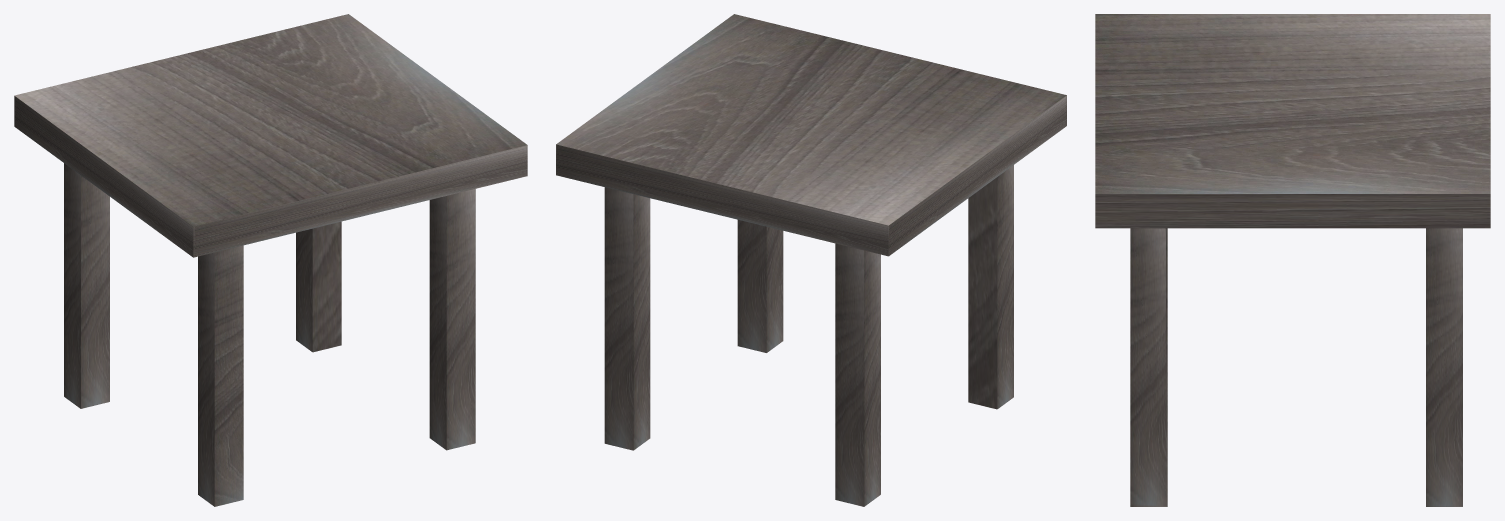
File: mesa.glb
The picture shows the model from 3 angles, left to right: view 1: azimuth 30°, elevation 25°; view 2: azimuth 150°, elevation 25°; view 3: azimuth 270°, elevation 25°; orthographic projection. The views are drawn at different scales.
Parts seen in each view (by area): view 1: mesa; view 2: mesa; view 3: mesa.
Boxes of the visible parts, box(x1,y1,x2,y2) form: mesa: box(14, 14, 527, 506); mesa: box(556, 14, 1066, 506); mesa: box(1095, 14, 1490, 506).
Size of the model in its own units: 2.88 by 2.48 by 2.68.
1 material, 1 textured.
